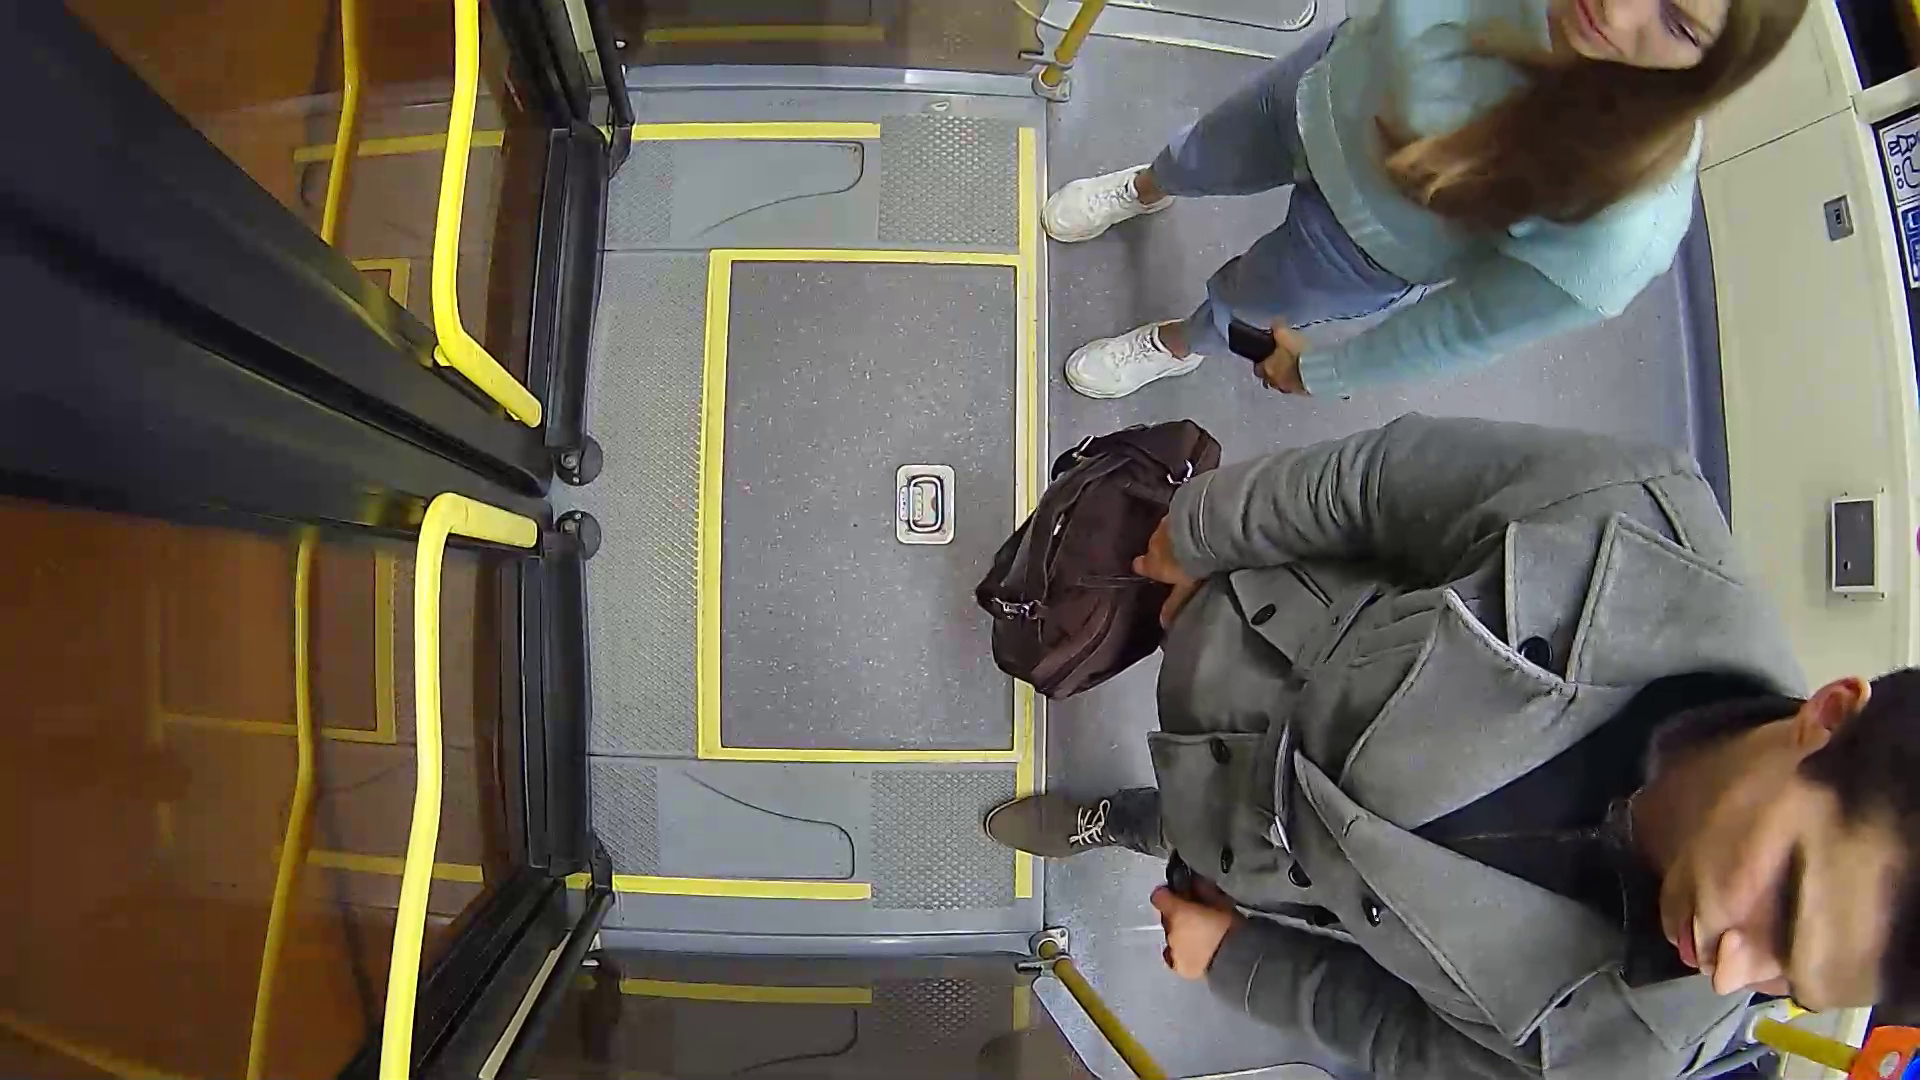person: (877, 399, 1904, 1046), (1047, 10, 1851, 433)
